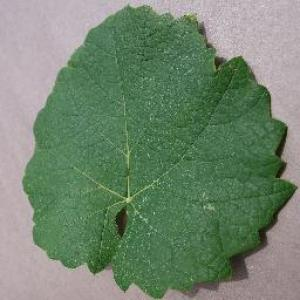Folha: (21, 2, 297, 299)
